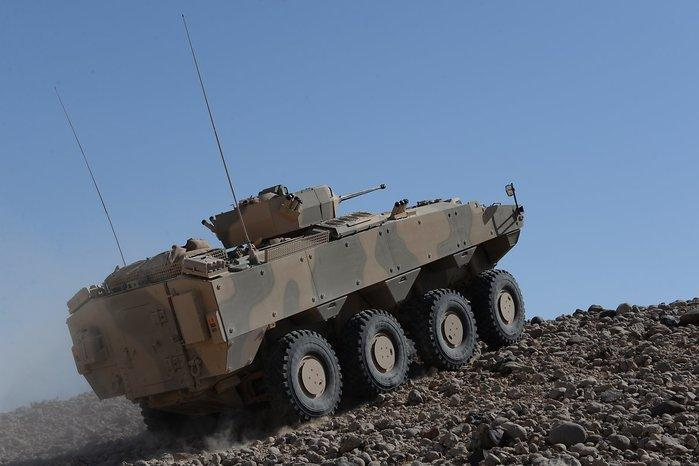MIL_IFV: (67, 159, 530, 441)
